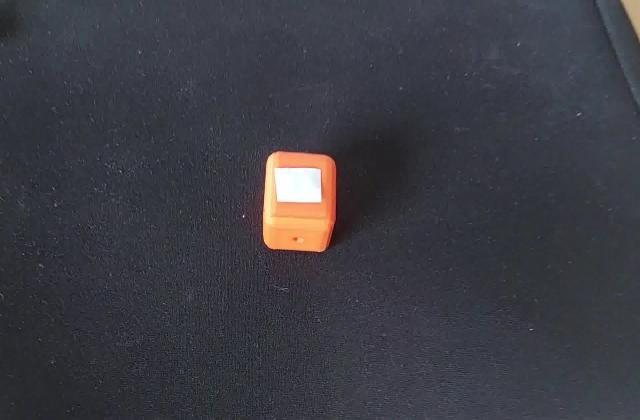sticker: (257, 149, 341, 257)
white: (270, 165, 328, 210)
